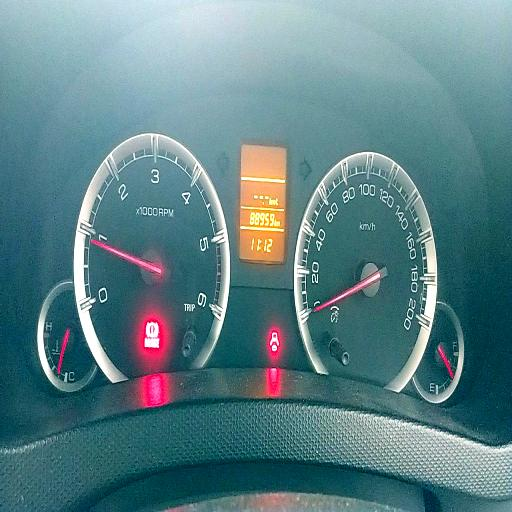brake_system_fault: (146, 320, 158, 338)
tachometer: (74, 135, 231, 381)
